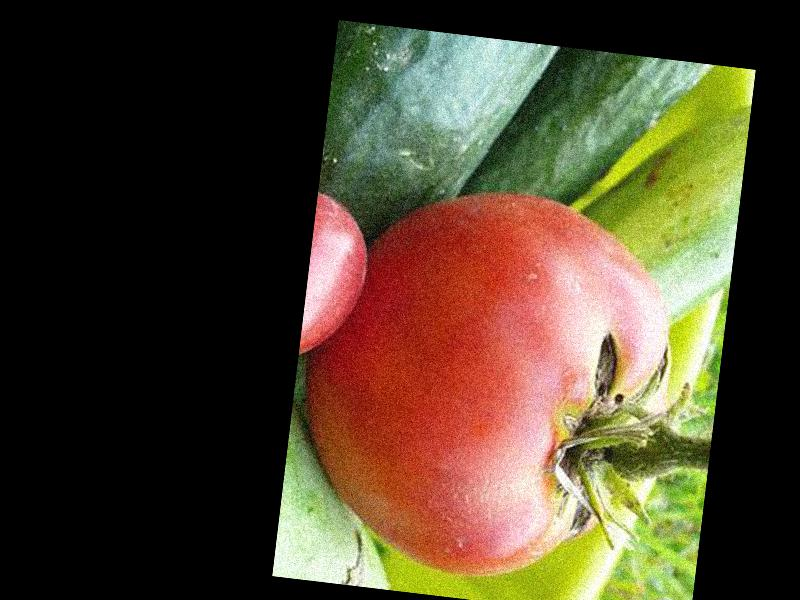Tomato: (283, 174, 683, 597)
